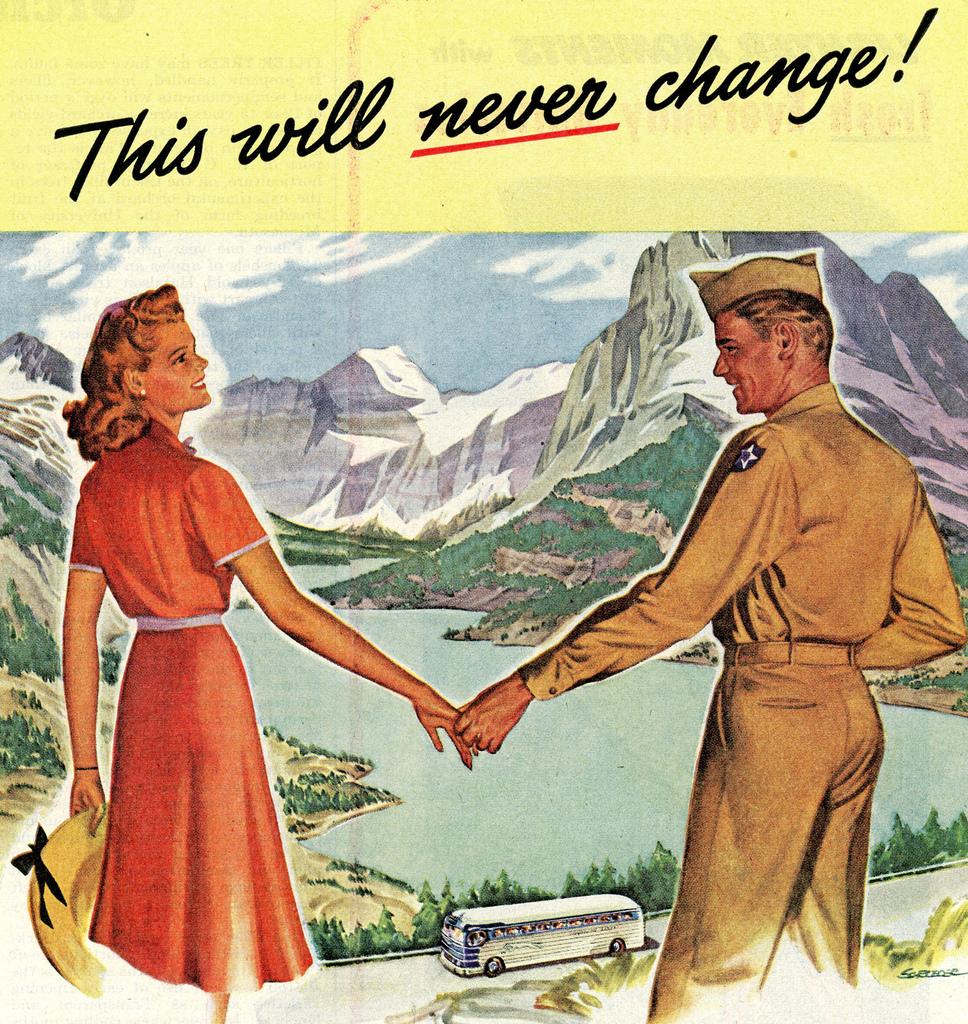Person: (9, 283, 479, 1024)
